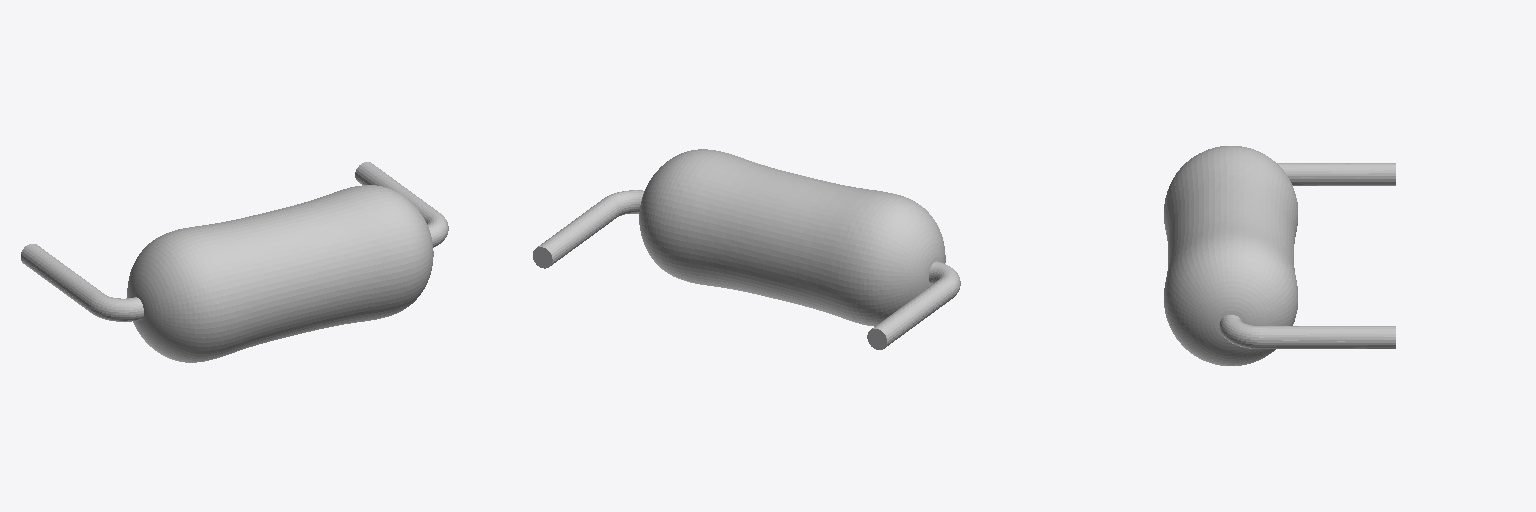
The model's file is bigclinder.obj.
3 views of the same model, side by side, from view 1: azimuth 30°, elevation 25°; view 2: azimuth 150°, elevation 25°; view 3: azimuth 270°, elevation 25° (orthographic).
Parts seen in each view (by area): view 1: Object.1; view 2: Object.1; view 3: Object.1.
Part boxes in pixels (x1,y1,x2,y2): Object.1: (21, 162, 448, 362); Object.1: (533, 149, 960, 349); Object.1: (1164, 146, 1395, 365).
Bounding box in the file's own units: 10.72 × 3.52 × 6.08.